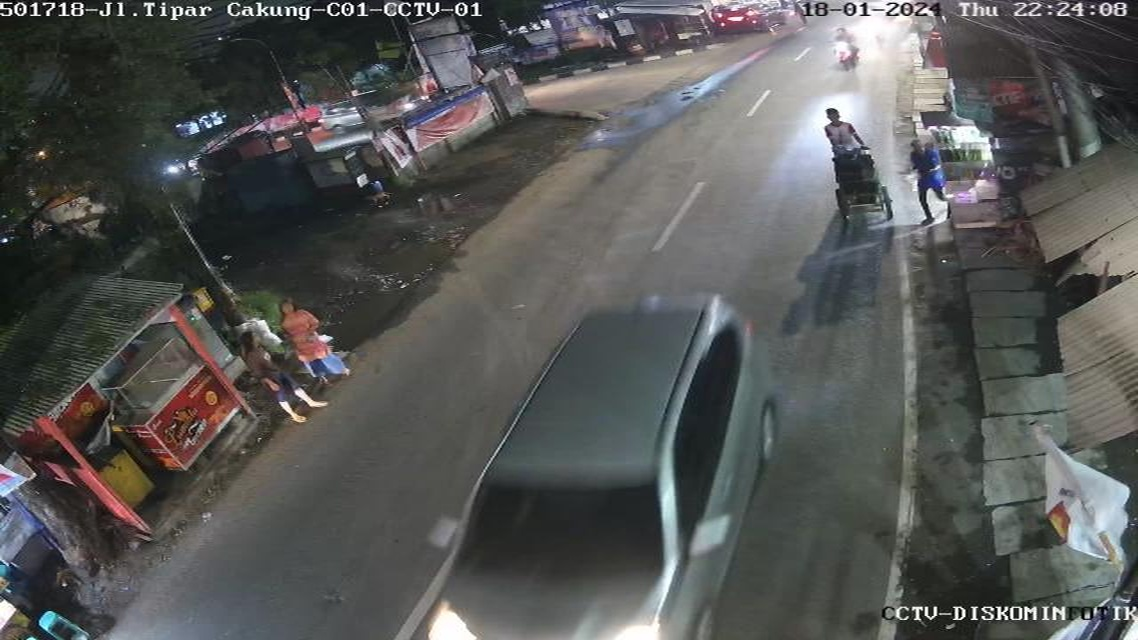Gerobak: (48, 315, 263, 477), (364, 11, 536, 182), (911, 114, 1024, 246), (813, 153, 909, 237), (293, 146, 395, 218)
